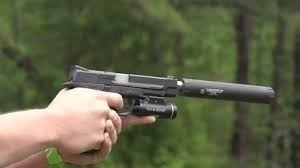pistol: (67, 59, 282, 123)
